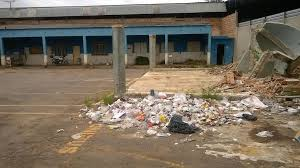rubble: (89, 92, 271, 131)
